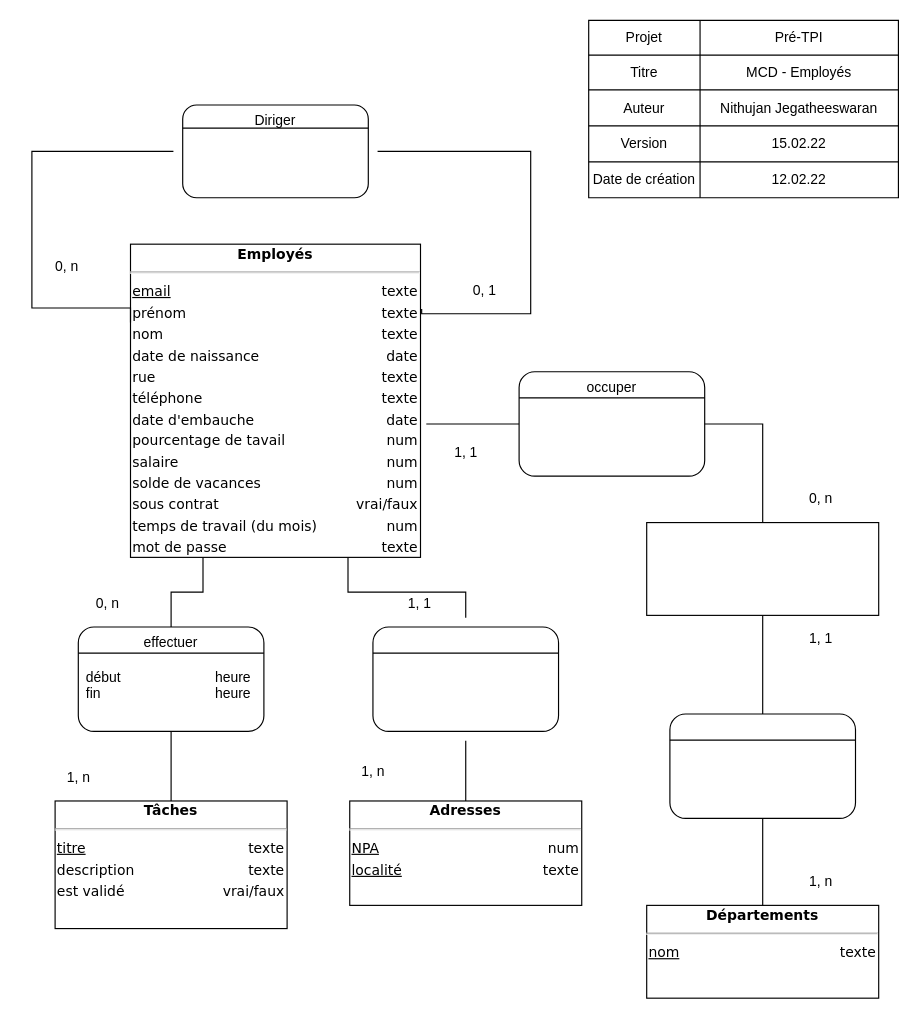
Image size: 919x1018. Some labels were removed from this diagram. The centre of each missing label's shape, as x and y in pixels:
"appartenir" belongs at (762,765).
"loger" belongs at (465,678).
"Postes nom texte" belongs at (762,568).
